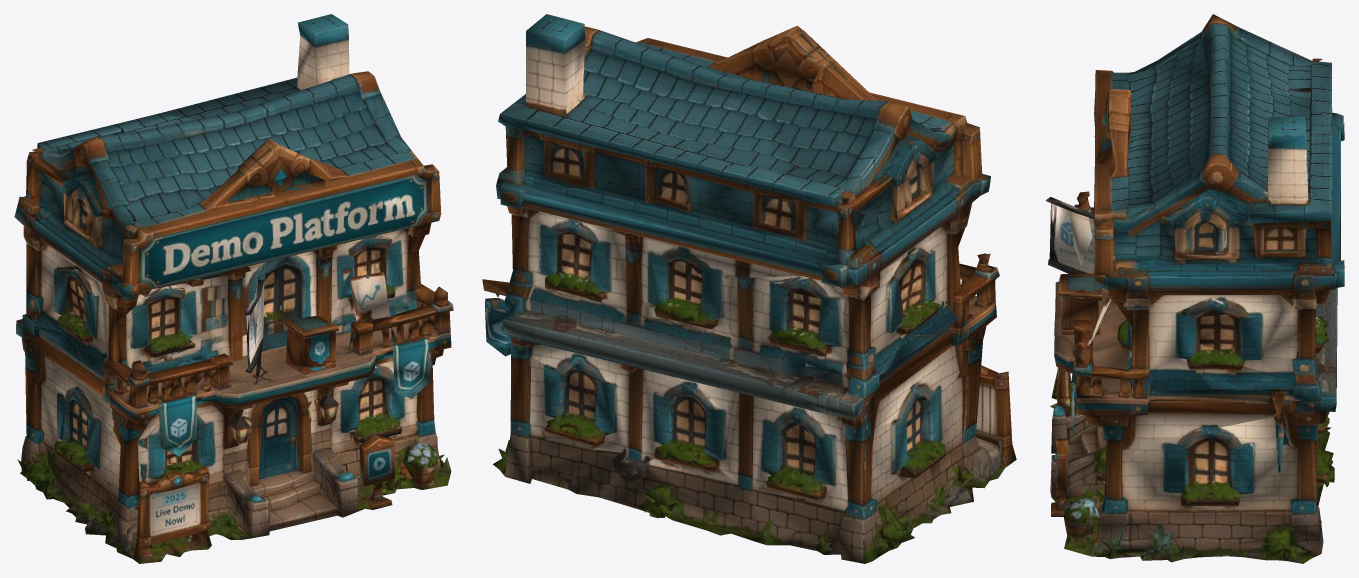
File: exp-demo-platform.glb
3 views of the same model, side by side, from view 1: azimuth 30°, elevation 25°; view 2: azimuth 150°, elevation 25°; view 3: azimuth 270°, elevation 25° (orthographic). The views are drawn at different scales.
Visible parts, largest first — view 1: Mesh1.0; view 2: Mesh1.0; view 3: Mesh1.0.
Boxes of the visible parts, <box> form: Mesh1.0: <box>14,14,453,563</box>; Mesh1.0: <box>482,14,1016,563</box>; Mesh1.0: <box>1045,14,1344,563</box>.
Size of the model in its own units: 1.89 by 1.9 by 1.24.
Materials: 1 (1 with a texture image).
